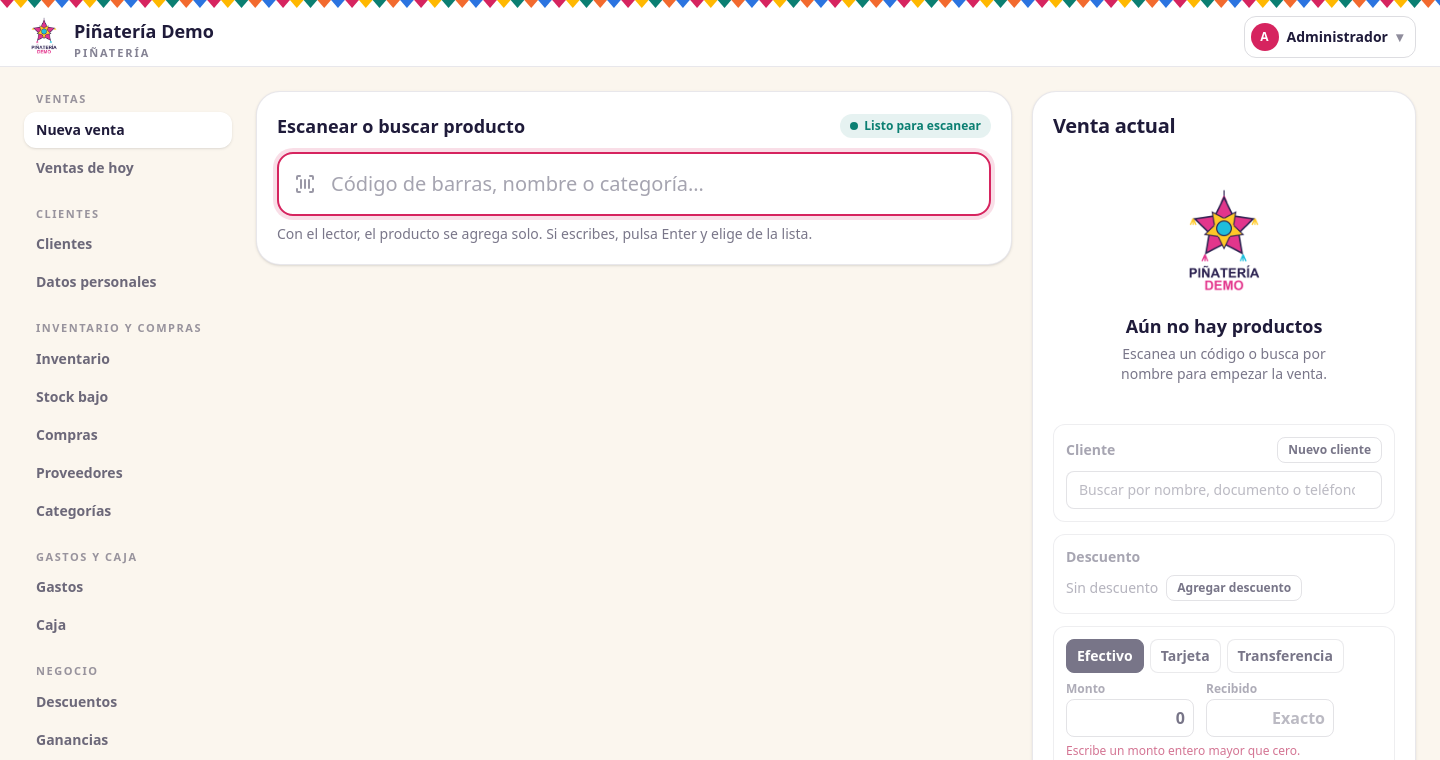
Test: PosPage — Gastos (Adendo v3, Fase G1: HU-12) › al elegir Gastos se abre la ventana de gastos
Click the tab "Gastos". click: (128, 587)
box: [24, 569, 232, 605]
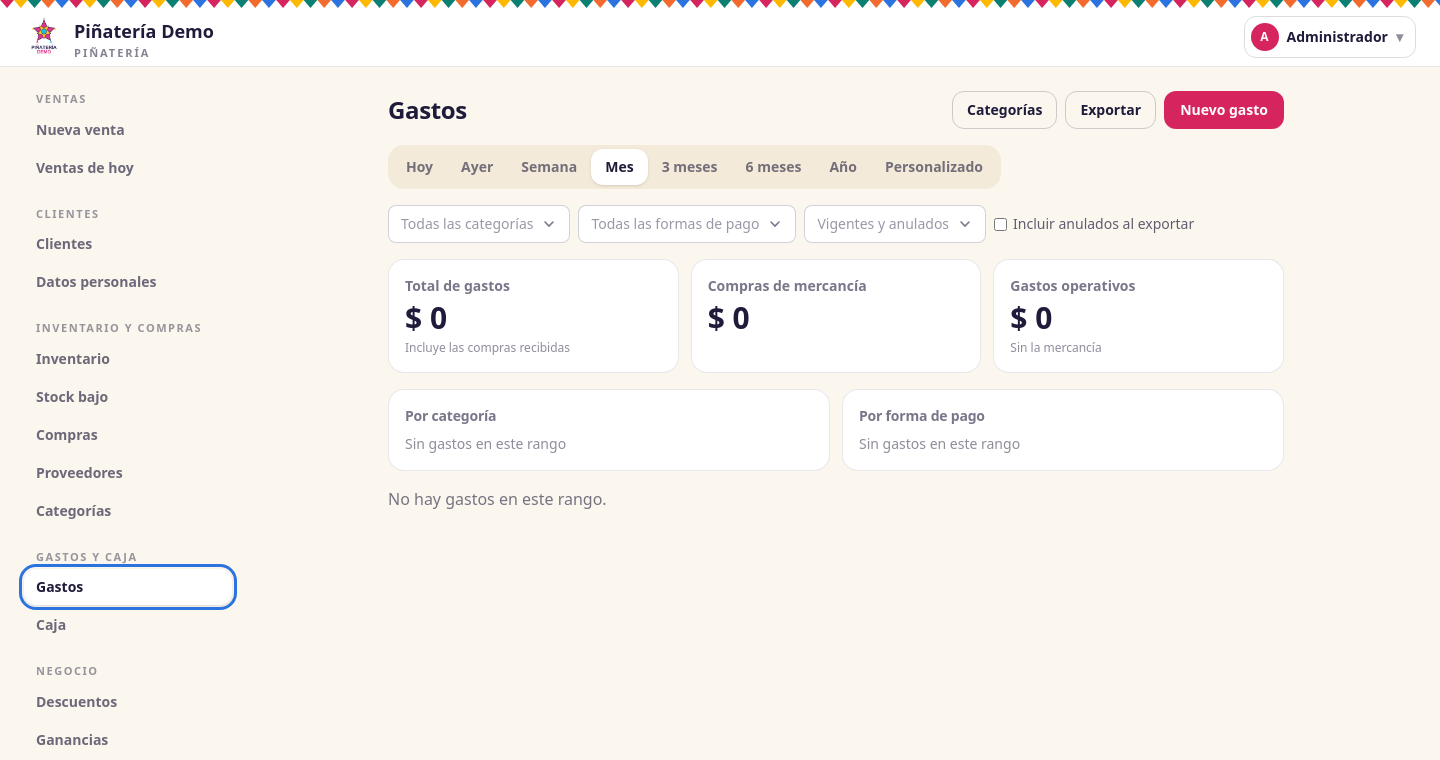
Check: the heading "Gastos" is shown, box [388, 94, 467, 126]
Check: the text "No hay gastos en este rango." is shown, box [388, 488, 607, 510]
